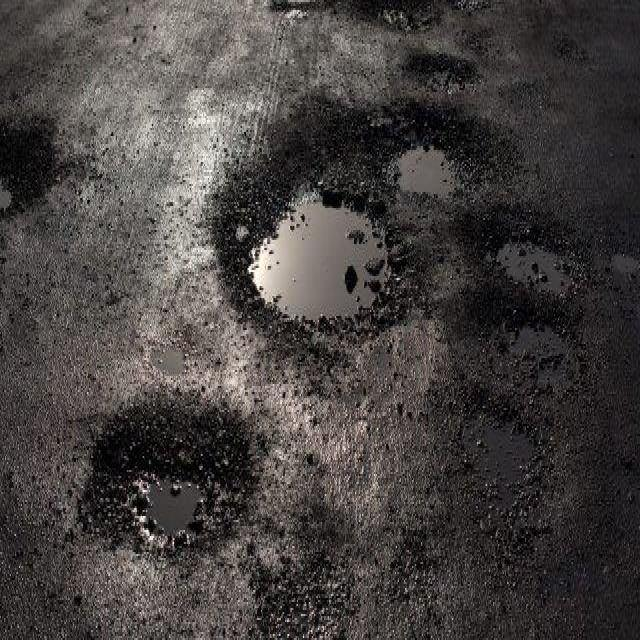lubang: (210, 83, 438, 351), (61, 380, 274, 568), (452, 363, 560, 570), (252, 470, 372, 640), (378, 96, 488, 214), (487, 286, 584, 397), (485, 212, 594, 300), (0, 108, 53, 230), (403, 40, 484, 94), (601, 236, 640, 289)
